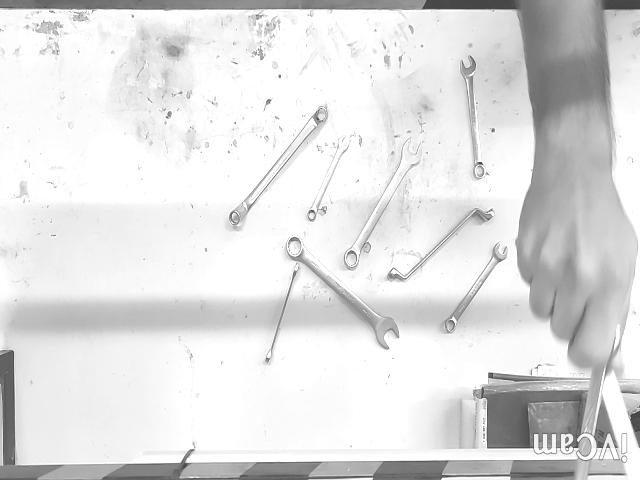Hand: (516, 2, 638, 367)
Wrench: (286, 236, 400, 350), (229, 107, 328, 227), (344, 139, 422, 270), (388, 208, 495, 282), (445, 242, 508, 333), (308, 136, 349, 222), (265, 264, 299, 365), (460, 56, 486, 178)
